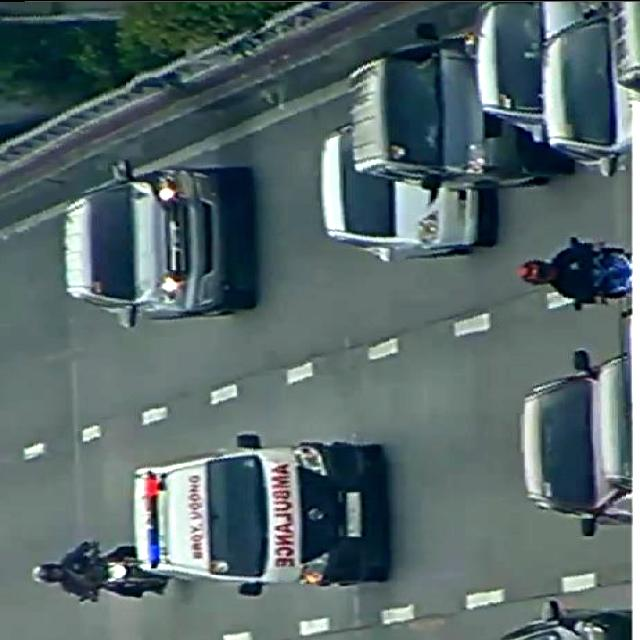emergency: (130, 427, 400, 600)
